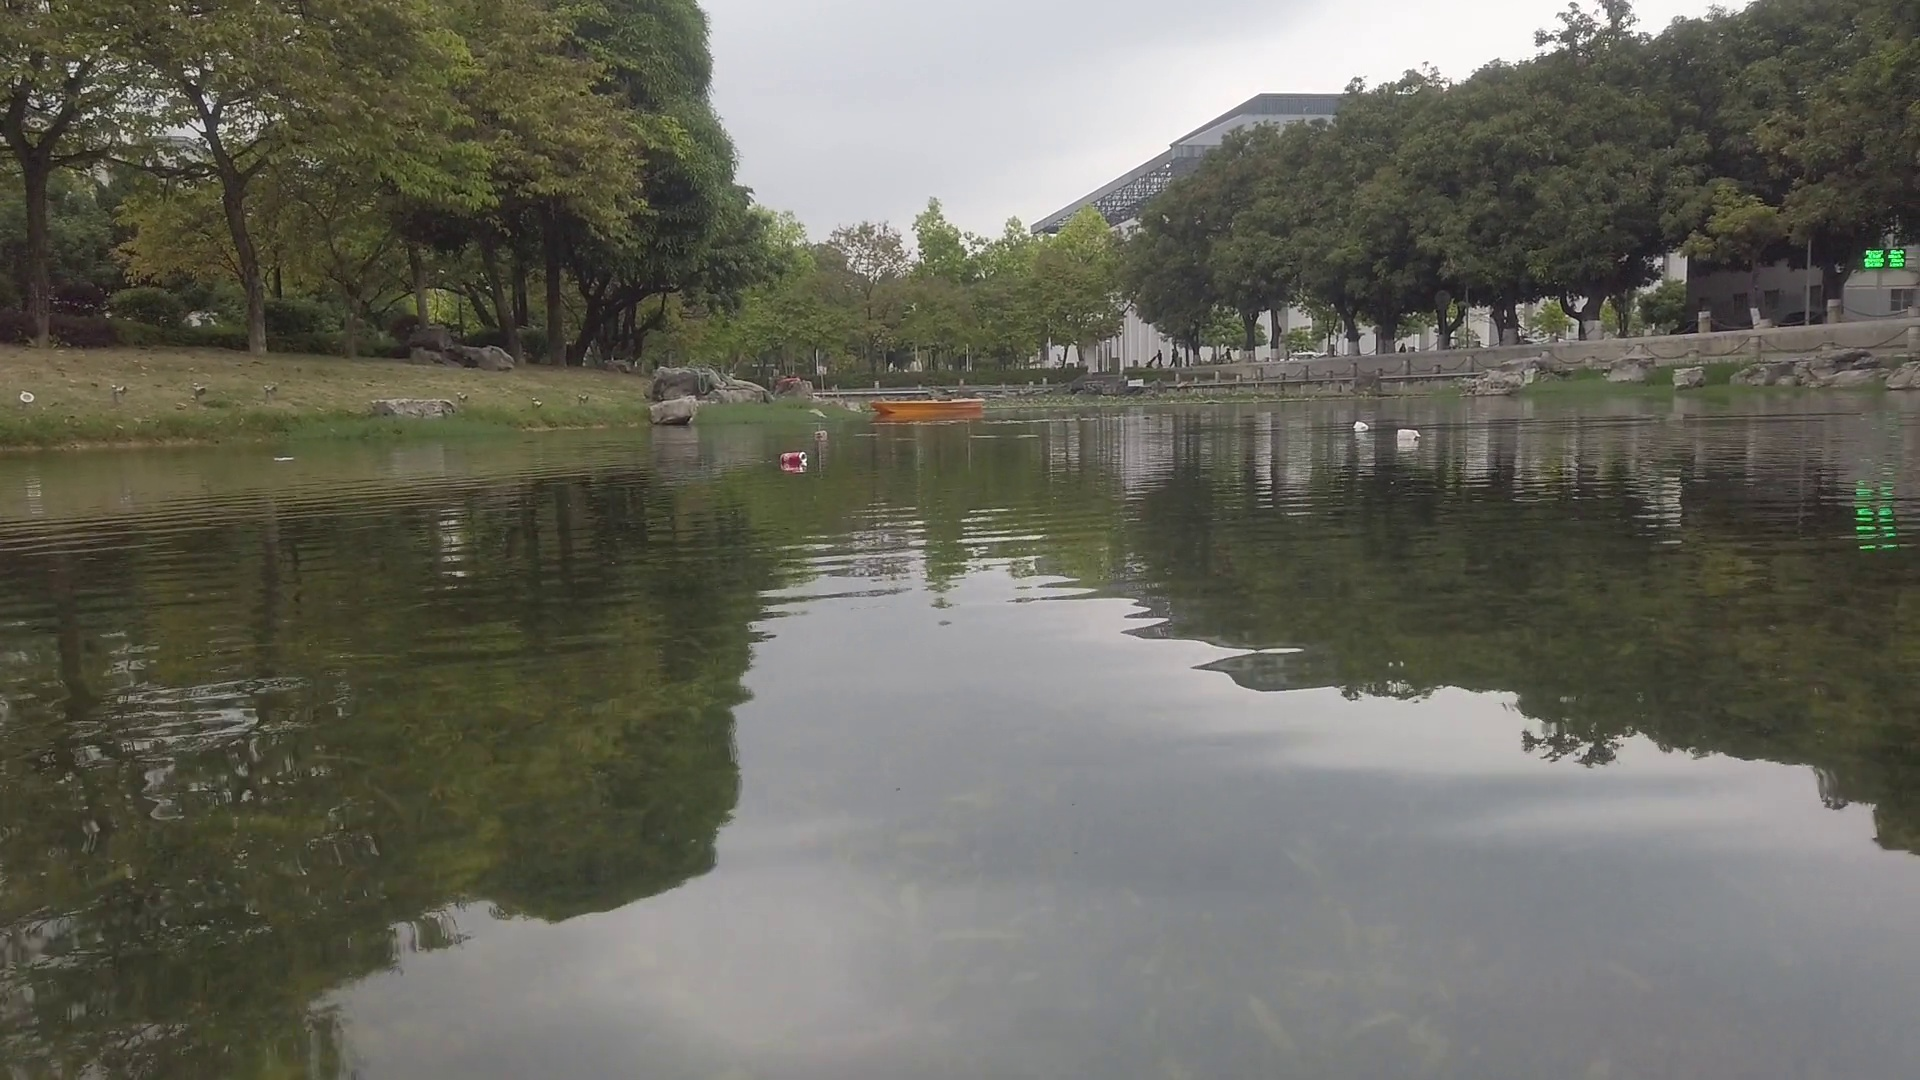bottle: (781, 452, 806, 465), (814, 430, 829, 438)
carton: (1396, 429, 1419, 440), (1356, 421, 1367, 433)
paper: (272, 454, 297, 468)
